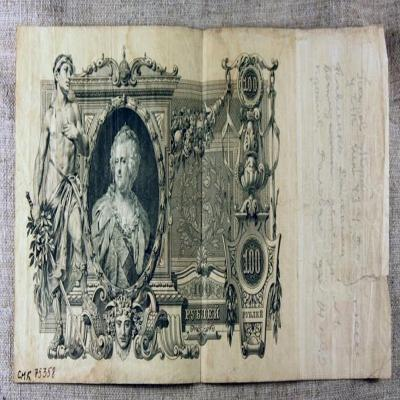numismatics: (17, 29, 387, 374)
